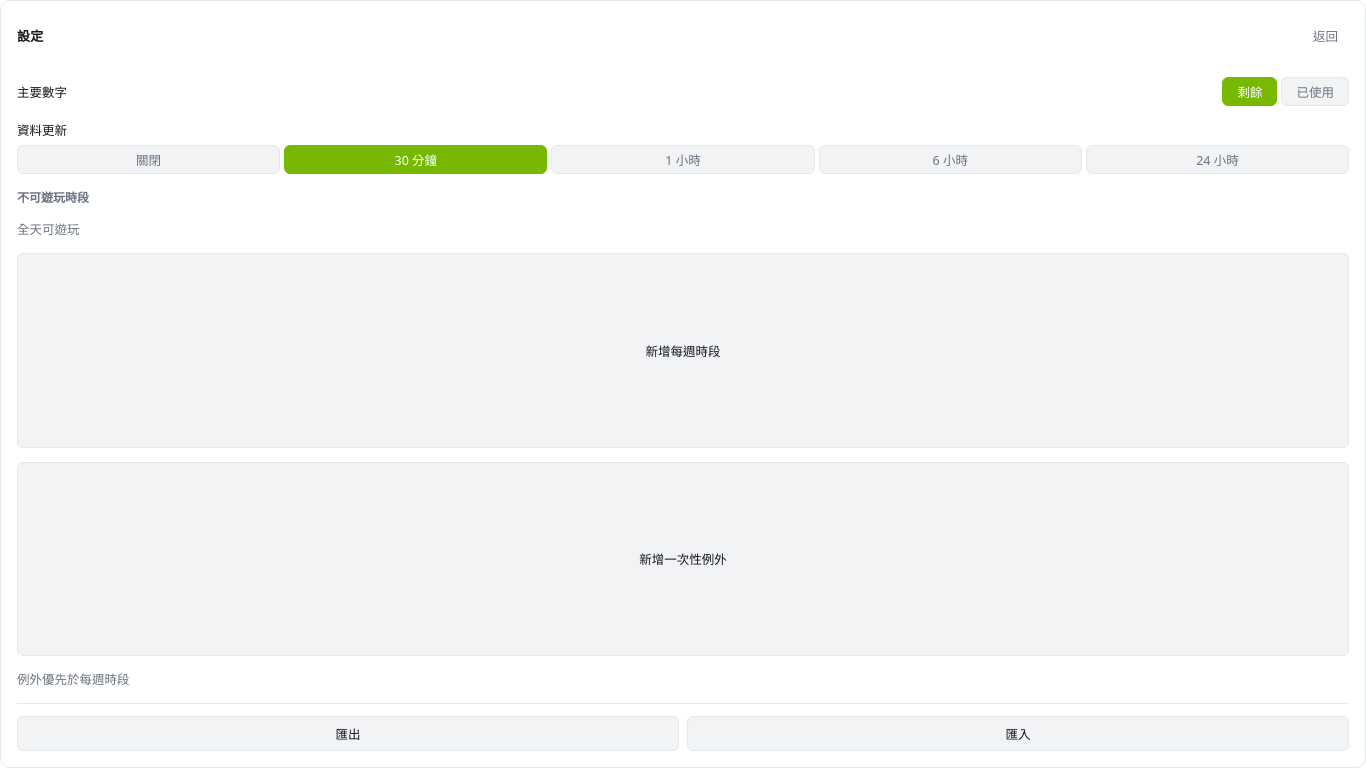
Scenario: ScheduleForm › 新增時段會給一個可用的預設值
This screenshot has width=1366, height=768.
Step 1. Click the button "新增每週時段" → point(683, 350), box [17,253,1349,448]
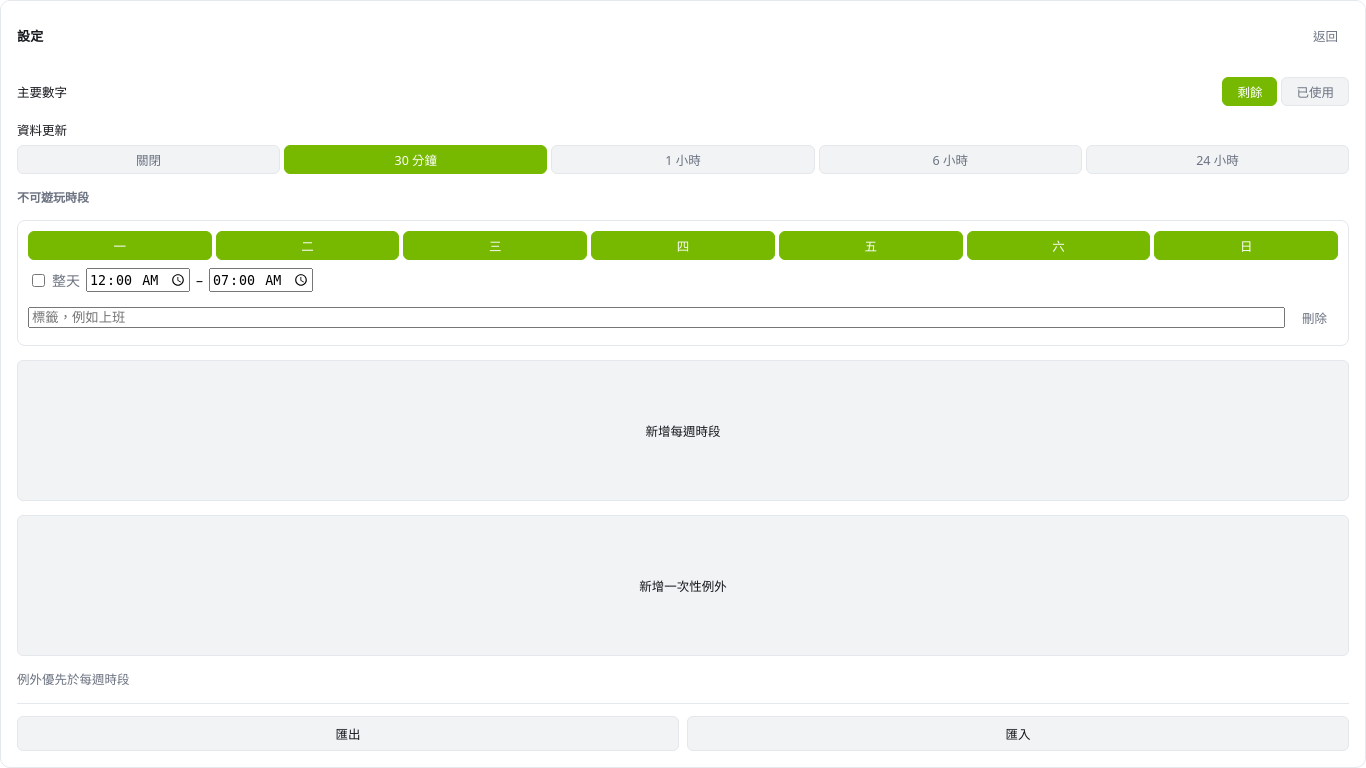
Expected: the time field showing "00:00" is shown, [86,268,190,292]
Expected: the time field showing "07:00" is shown, [209,268,313,292]
